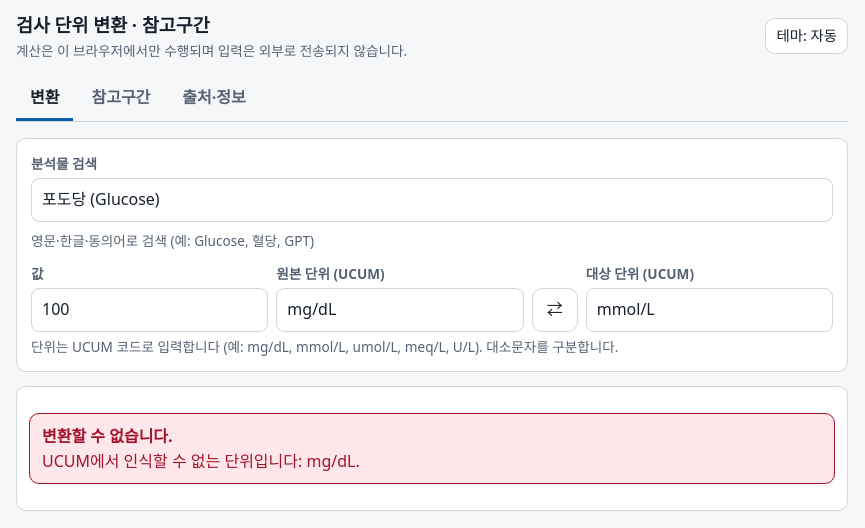
it: 앱 스모크 › 스왑 버튼이 단위를 맞바꾼다
Click the button named "단위 맞바꾸기". click: x=555, y=310
box: [532,288,578,332]
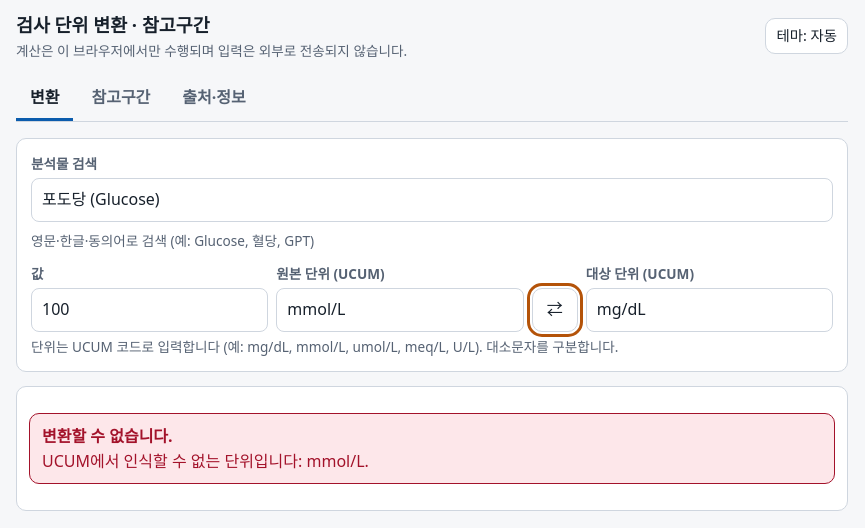
Check: the field labelled "원본 단위 (UCUM)" holds "mmol/L", box [276,288,524,332]
Check: the field labelled "대상 단위 (UCUM)" holds "mg/dL", box [586,288,833,332]
